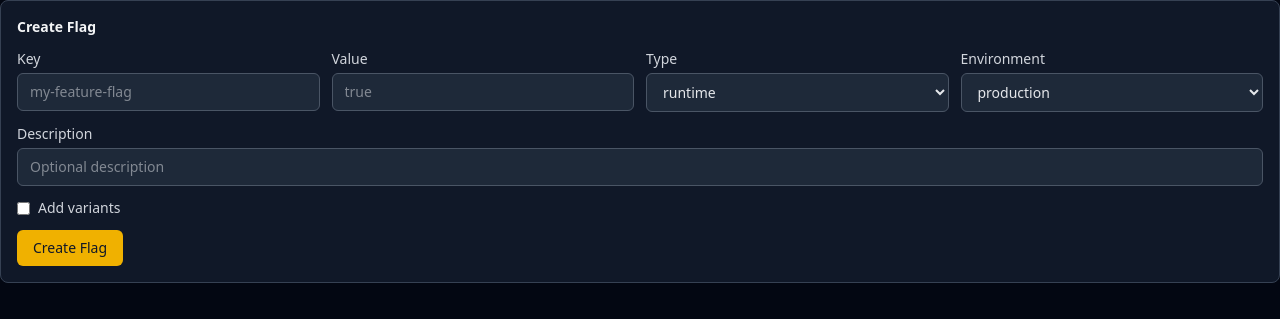
Test case: CreateFlagForm › shows validation error for empty key on submit
Click the button "Create Flag": (70,248) [17,230,123,266]
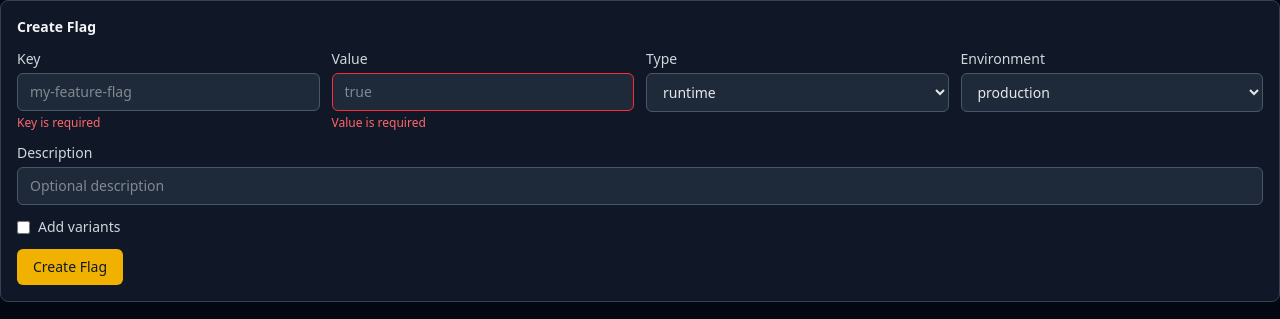
Result: the list item "Key is required" is shown at [17,114,100,131]
